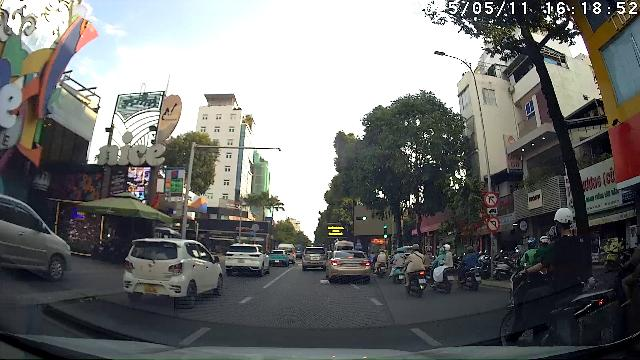123a-cam-re-trai: (486, 216, 500, 232)
123b-cam-re-phai: (484, 192, 498, 207)
